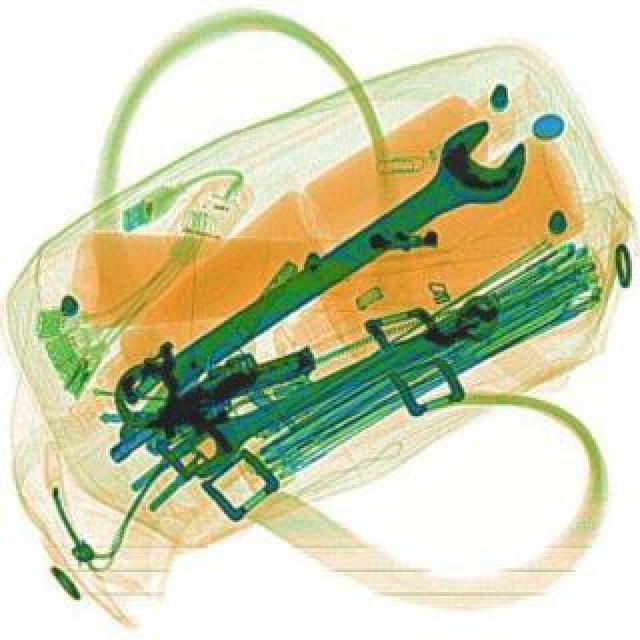gun: (104, 316, 320, 494)
scissors: (88, 102, 546, 442), (164, 276, 508, 482)
